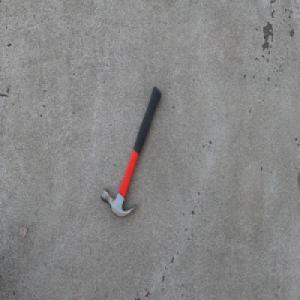Hammer: (100, 85, 161, 218)
